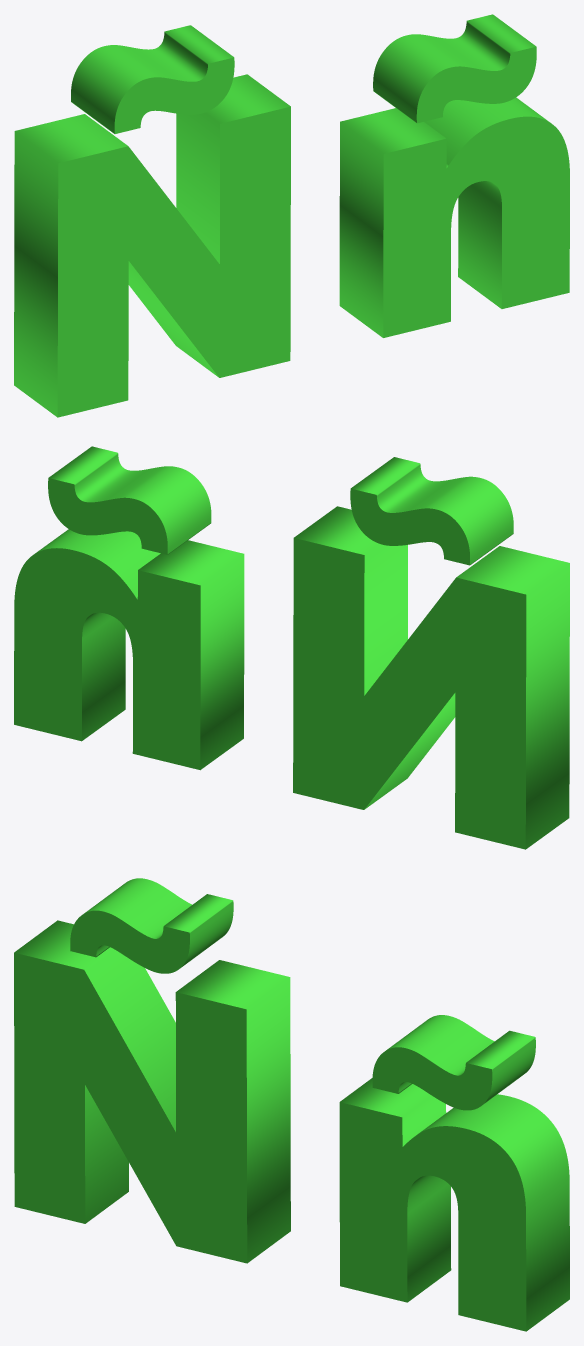
File: letra ñ.fbx
3 renders of one model, top to bottom at view 1: azimuth 30°, elevation 25°; view 2: azimuth 150°, elevation 25°; view 3: azimuth 330°, elevation 25°, orthographic.
Visible parts, largest first — view 1: Text; view 2: Text; view 3: Text.
Part boxes in pixels (left/top/right/bottom): Text: left=14, top=14, right=569, bottom=417; Text: left=14, top=446, right=569, bottom=849; Text: left=14, top=878, right=569, bottom=1331.
Size of the model in its own units: 108 by 64.31 by 16.26.
